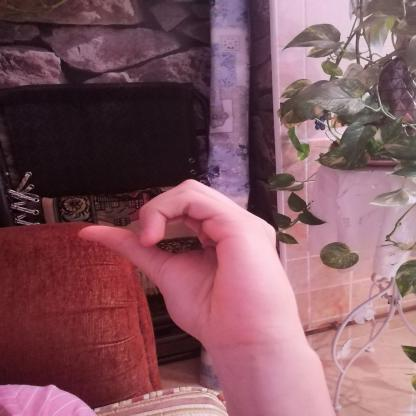WAW: (63, 169, 326, 368)
